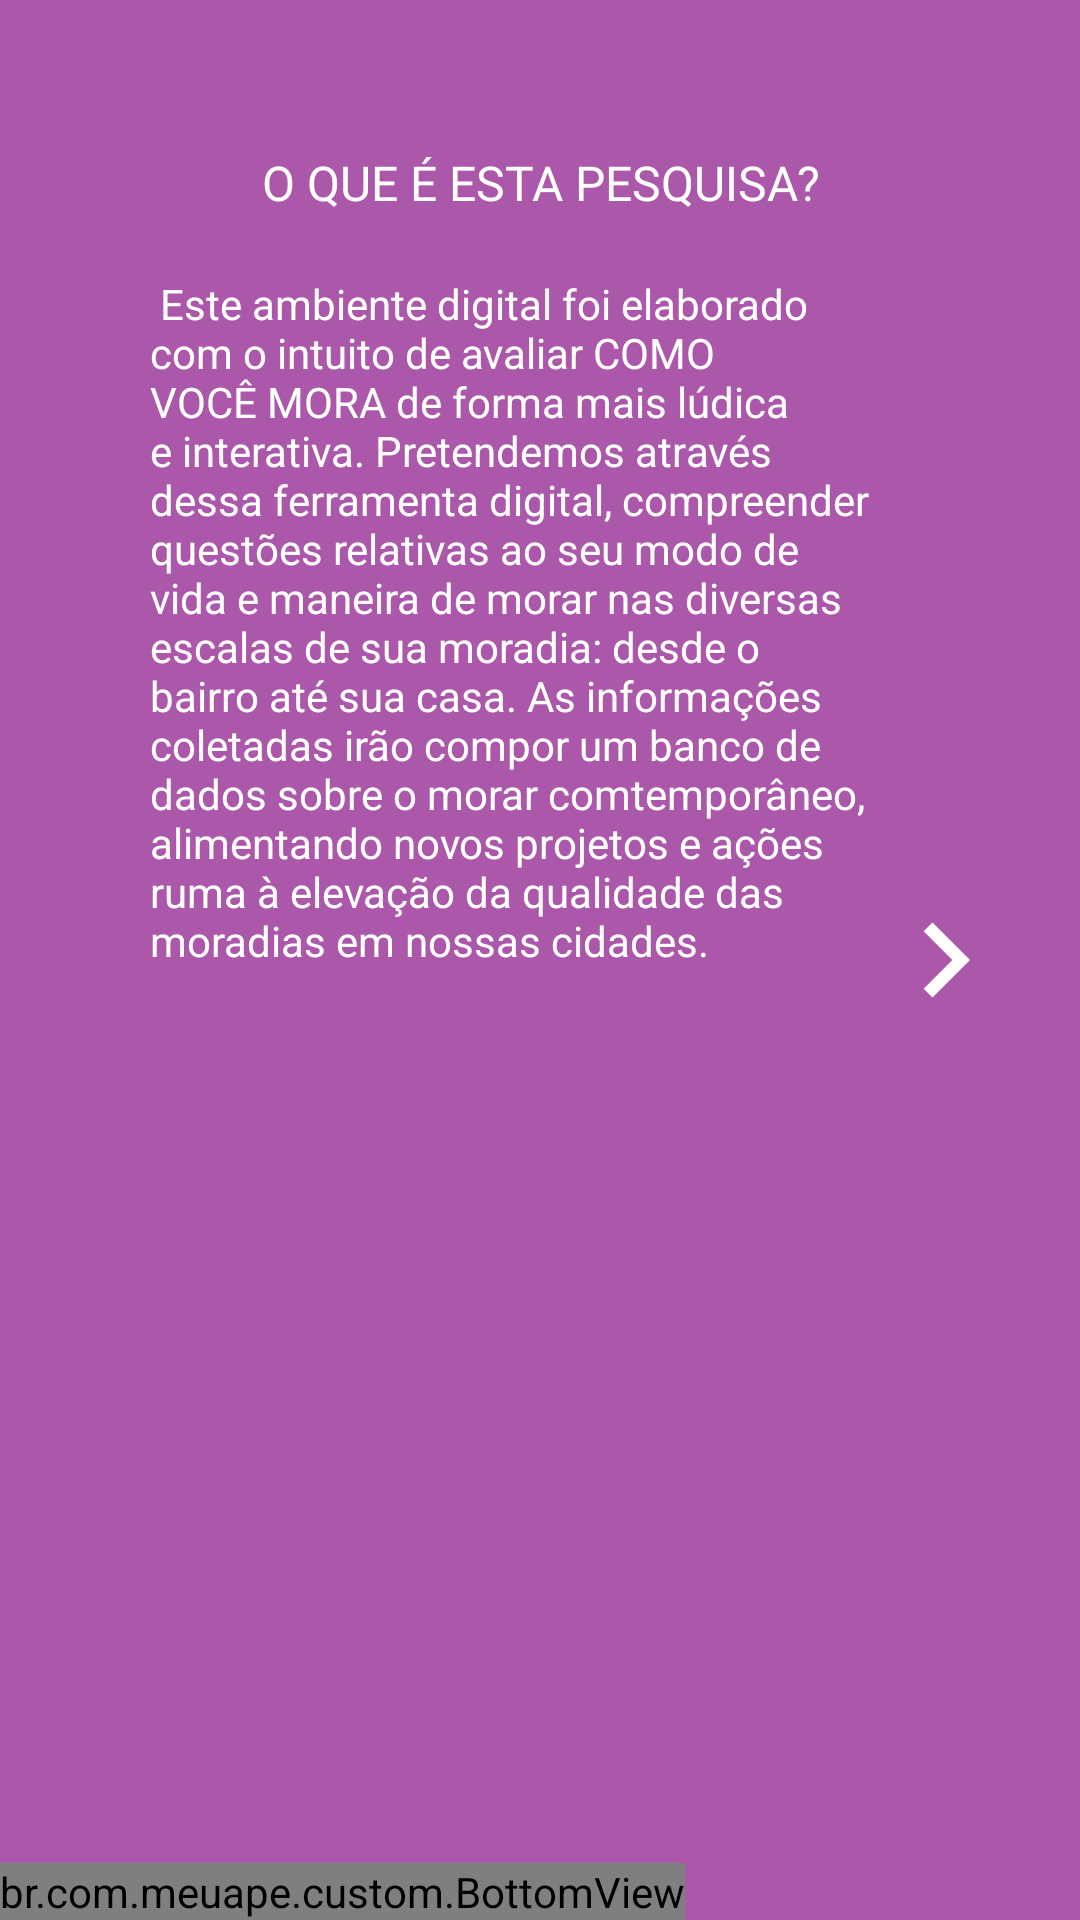

Icon bounding boxes for this 1080px×1920px phone screenshot, format BBox(x1, y1, x2, y2):
next: BBox(924, 922, 970, 998)
